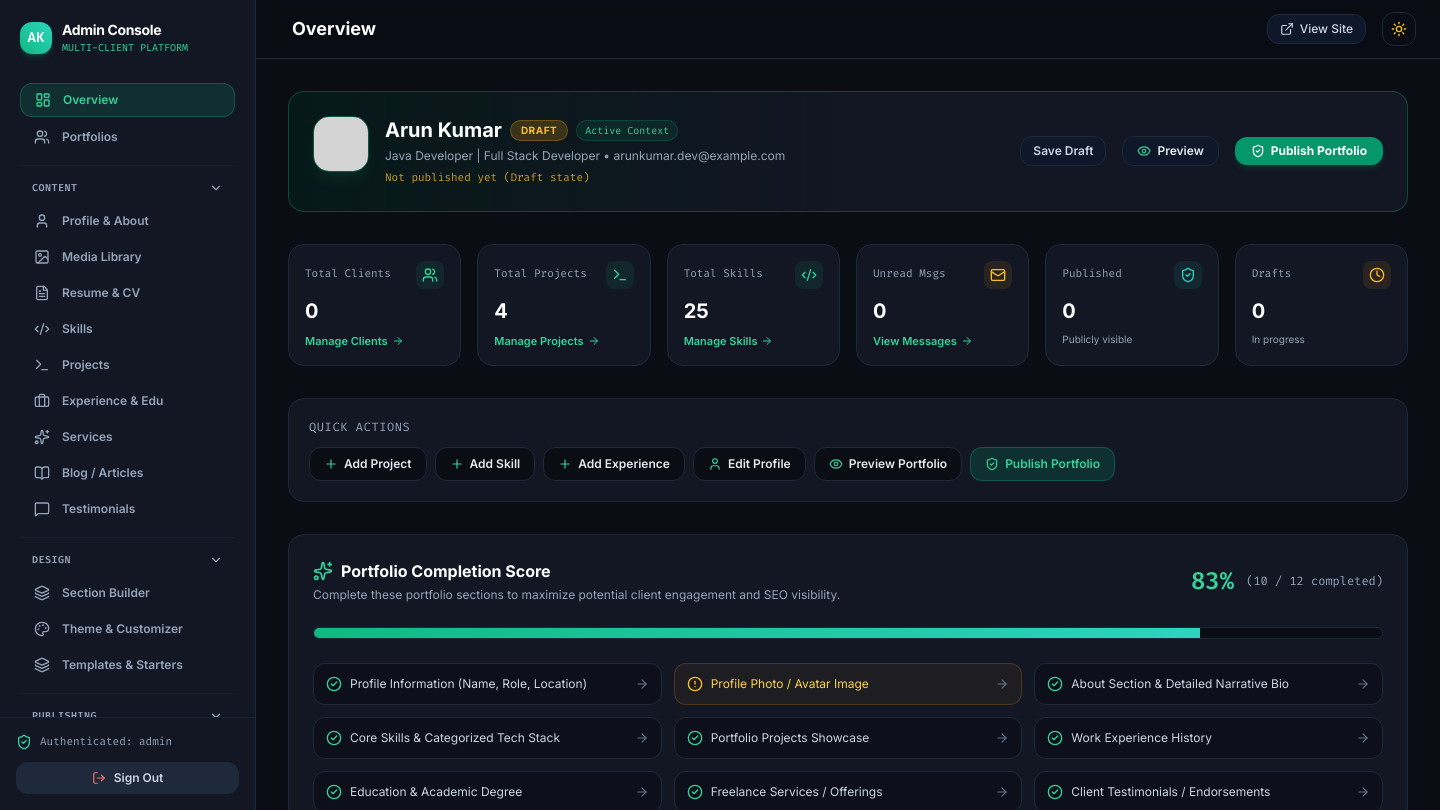
Test: Phase 4: Admin Dashboard SaaS UI Component Tests › 2. Sidebar Navigation — should switch active view when sidebar tab is clicked
This screenshot has width=1440, height=810.
Expected: the text "Admin Console" is shown, [62,21,161,38]
Click the button "Projects" at coordinates (128, 365), box [20,349,235,381]
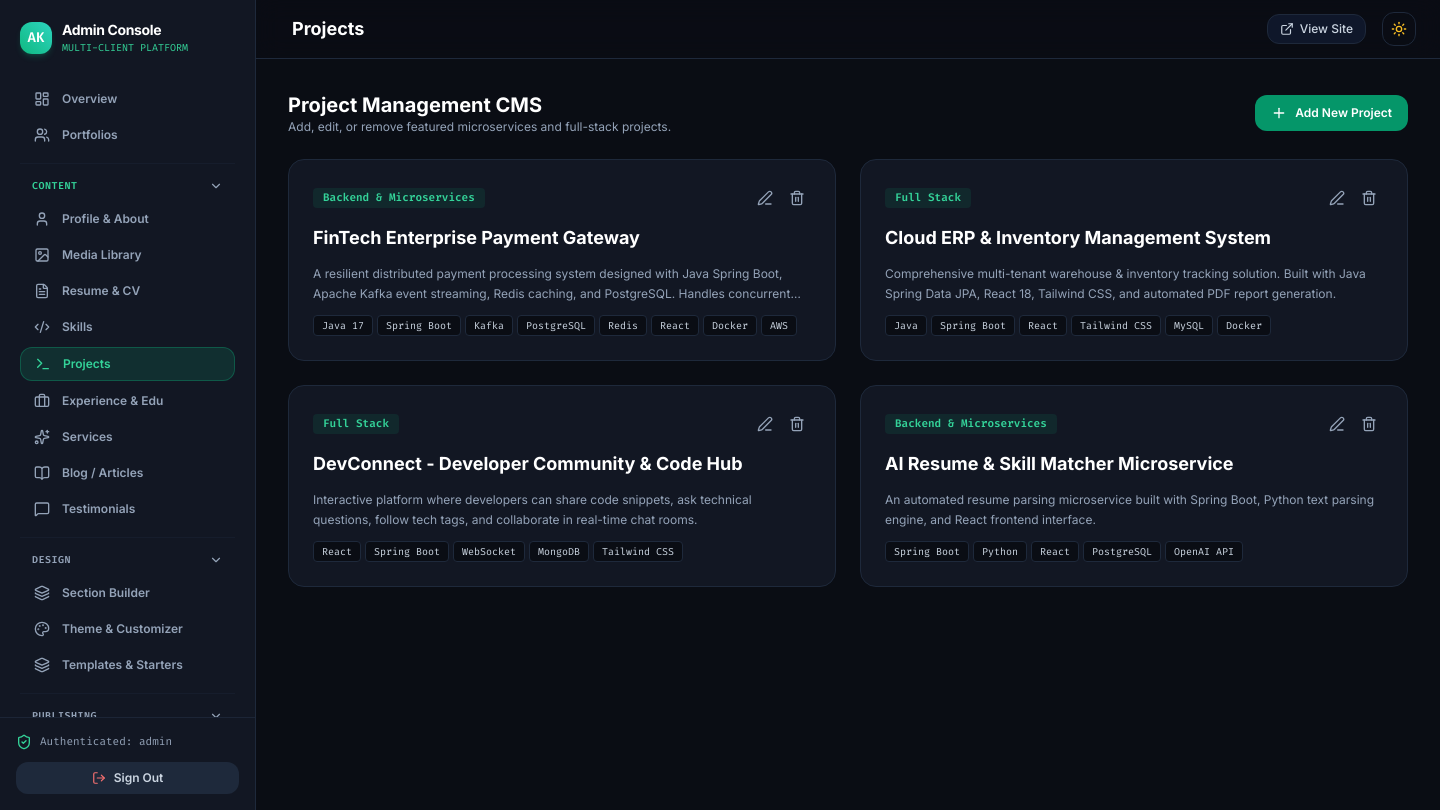
Expected: the heading "Project Management CMS" is shown, [288,93,542,117]
